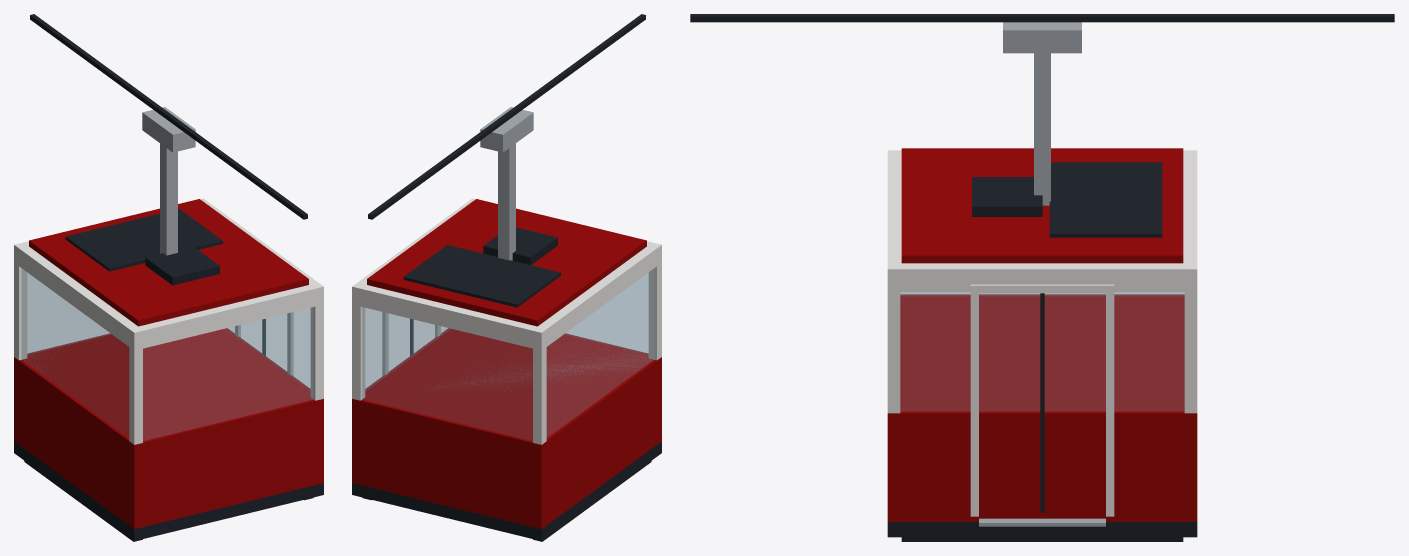
File: skylink-cabin.glb
The picture shows the model from 3 angles, left to right: view 1: azimuth 30°, elevation 25°; view 2: azimuth 150°, elevation 25°; view 3: azimuth 270°, elevation 25°; orthographic projection. The views are drawn at different scales.
Parts seen in each view (by area): view 1: Cabin; view 2: Cabin; view 3: Cabin.
Boxes of the visible parts, x1,y1,x2,y2 form: Cabin: [14, 14, 323, 541]; Cabin: [352, 14, 661, 541]; Cabin: [690, 14, 1394, 541].
Bounding box in the file's own units: 2.07 × 3.68 × 5.
